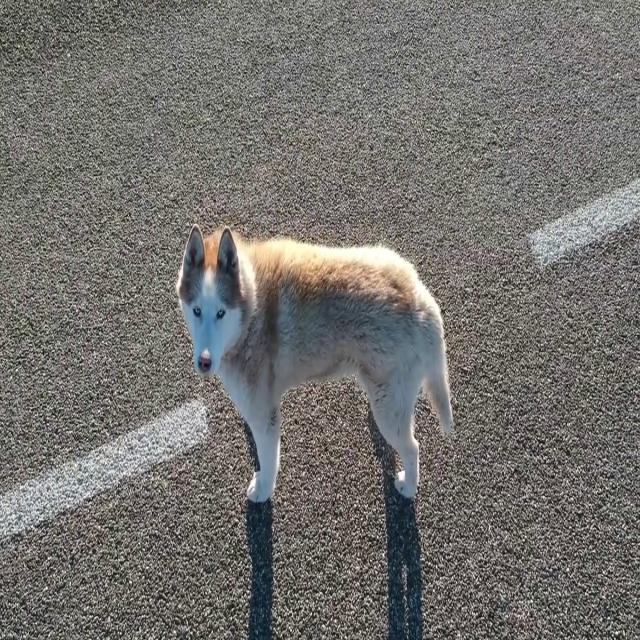Dog: (176, 222, 454, 502)
